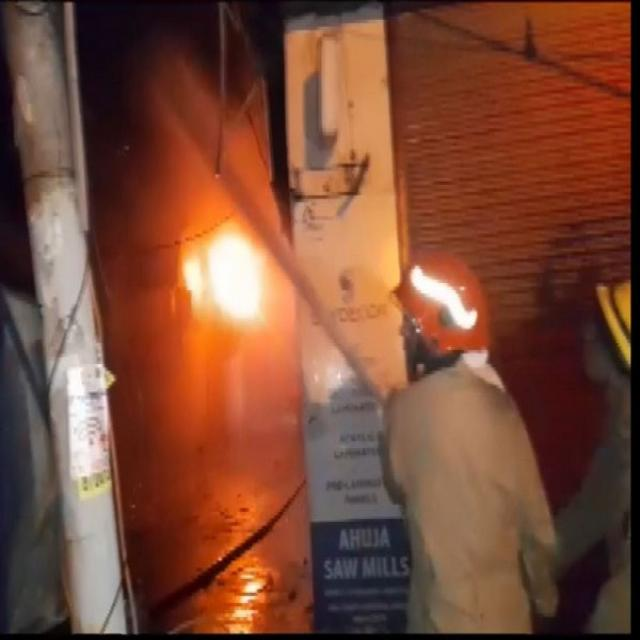fire: (185, 224, 267, 324)
